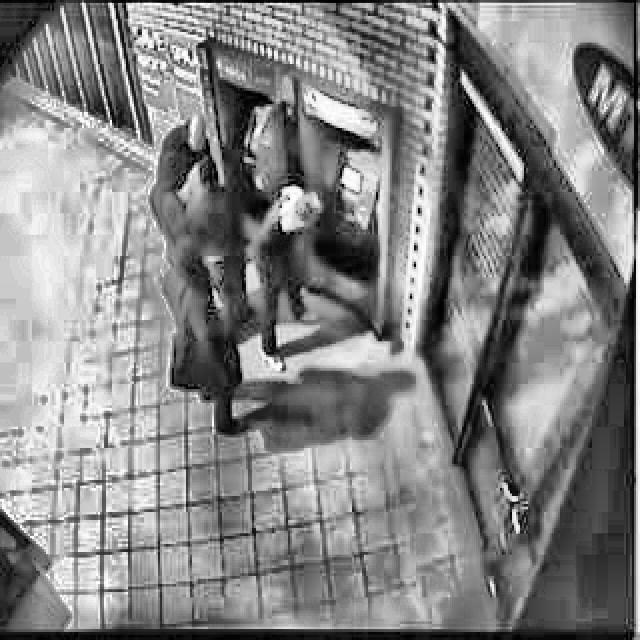burglary: (150, 88, 386, 441)
